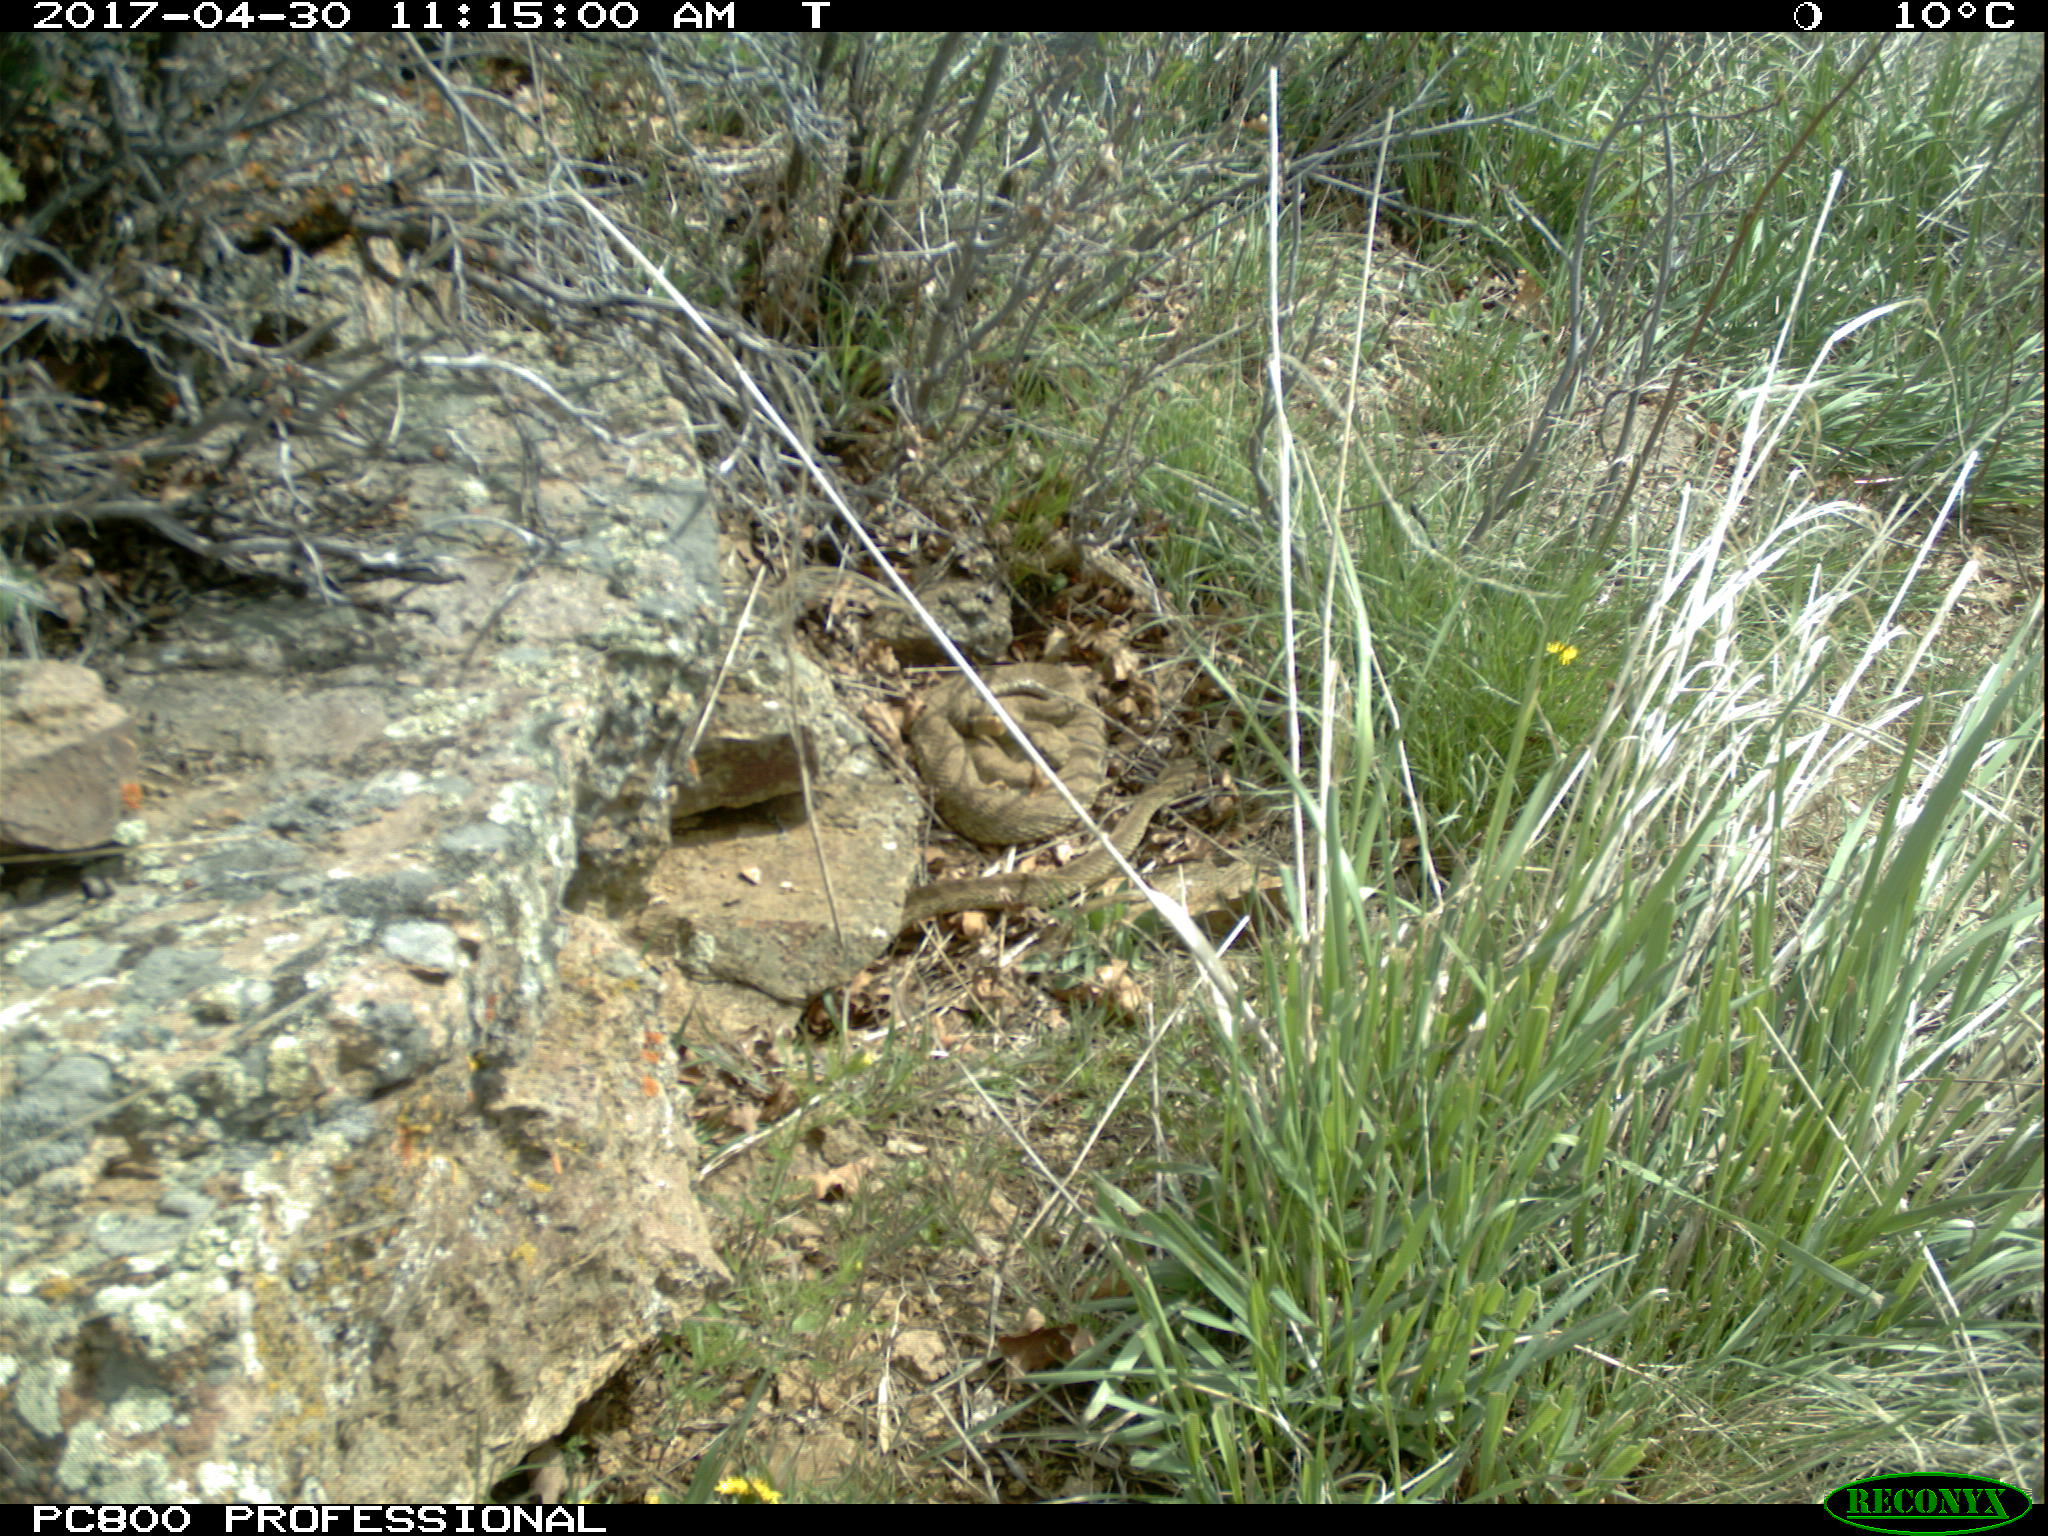snake: (897, 650, 1116, 849)
